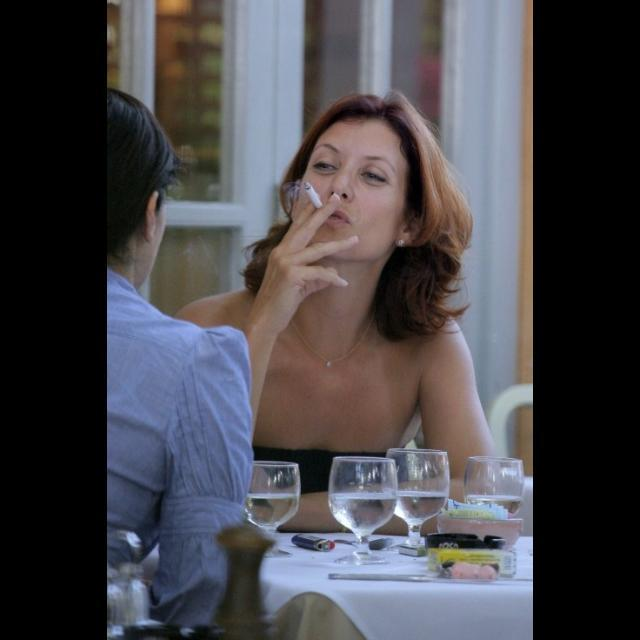rokok: (298, 177, 324, 209)
